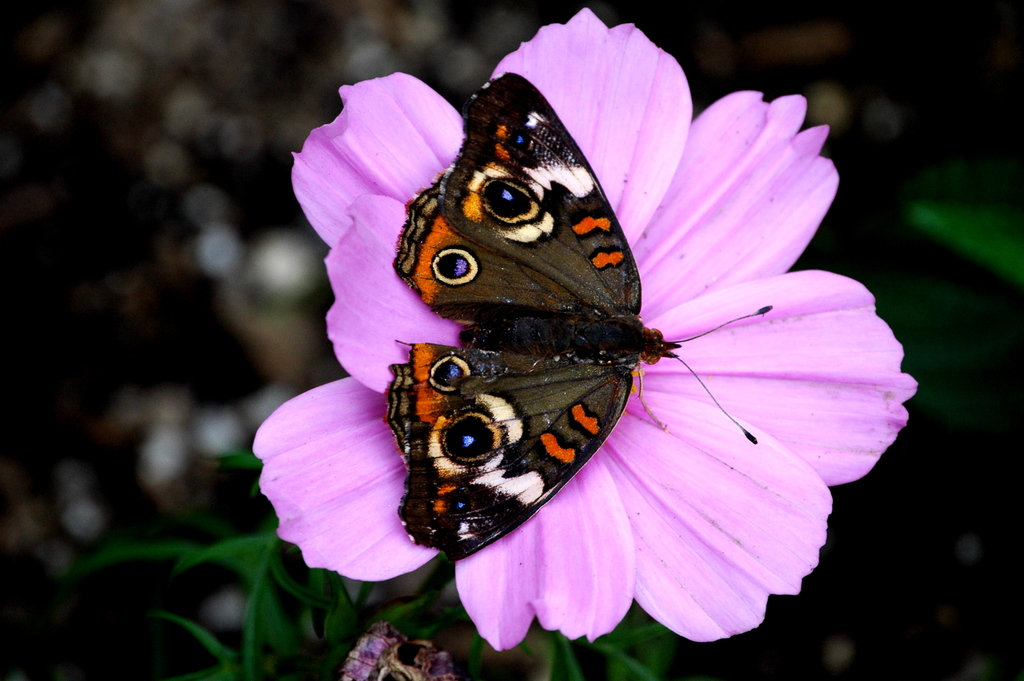Butterfly: (375, 65, 775, 588)
